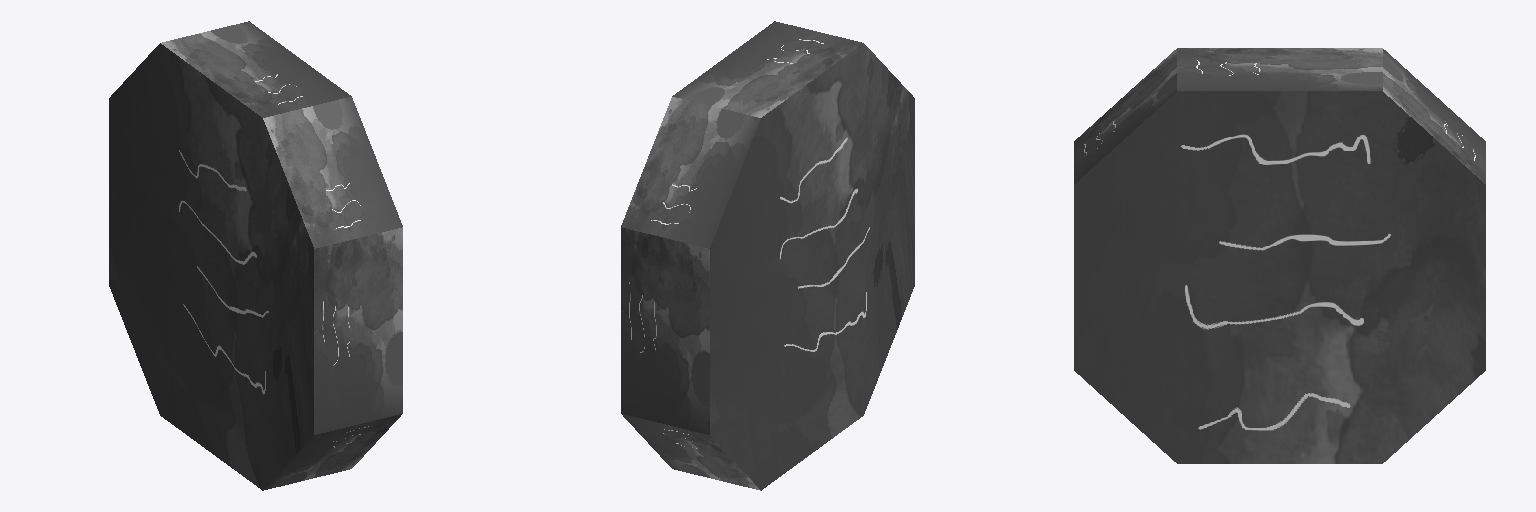
3 renders of one model, left to right at view 1: azimuth 30°, elevation 25°; view 2: azimuth 150°, elevation 25°; view 3: azimuth 270°, elevation 25°, orthographic.
Visible parts, largest first — view 1: Cube; view 2: Cube; view 3: Cube.
Boxes of the visible parts, x1,y1,x2,y2 form: Cube: [109, 21, 402, 490]; Cube: [621, 21, 914, 490]; Cube: [1074, 48, 1485, 463].
Bounding box in the file's own units: 0.5 × 2 × 2.
1 materials, 1 textured.